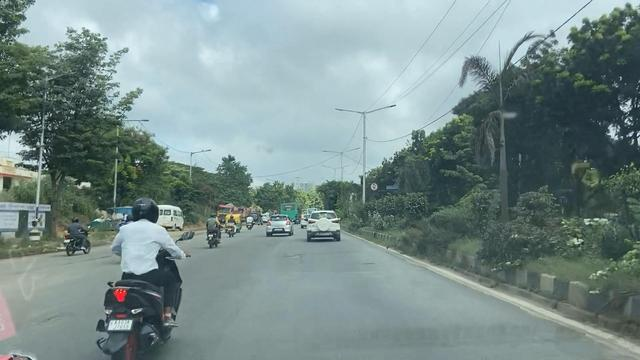HMV: (155, 201, 192, 237)
LMV: (67, 190, 209, 360), (297, 203, 344, 243), (61, 211, 94, 263), (256, 208, 293, 245), (206, 213, 224, 248)
RoadDamages: (352, 251, 384, 276), (279, 248, 315, 269)
